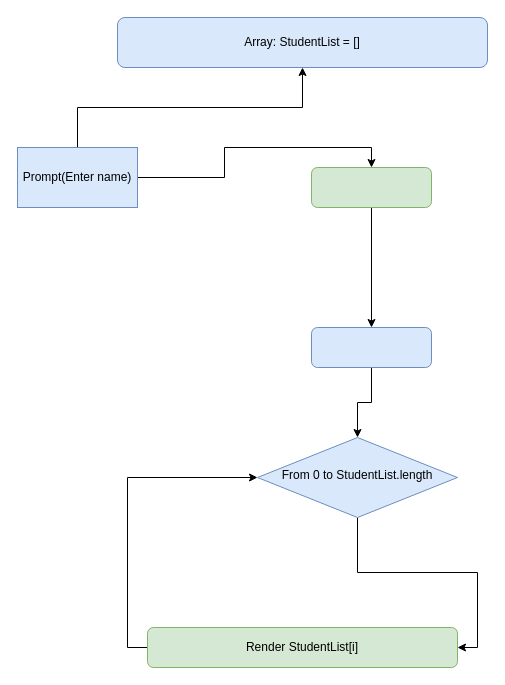
Image size: 505x685. Some labels were removed from this diagram. The centre of each missing label's shape, as x and y in pixels:
Onclick: (371,187)
Push Name: (371,347)
